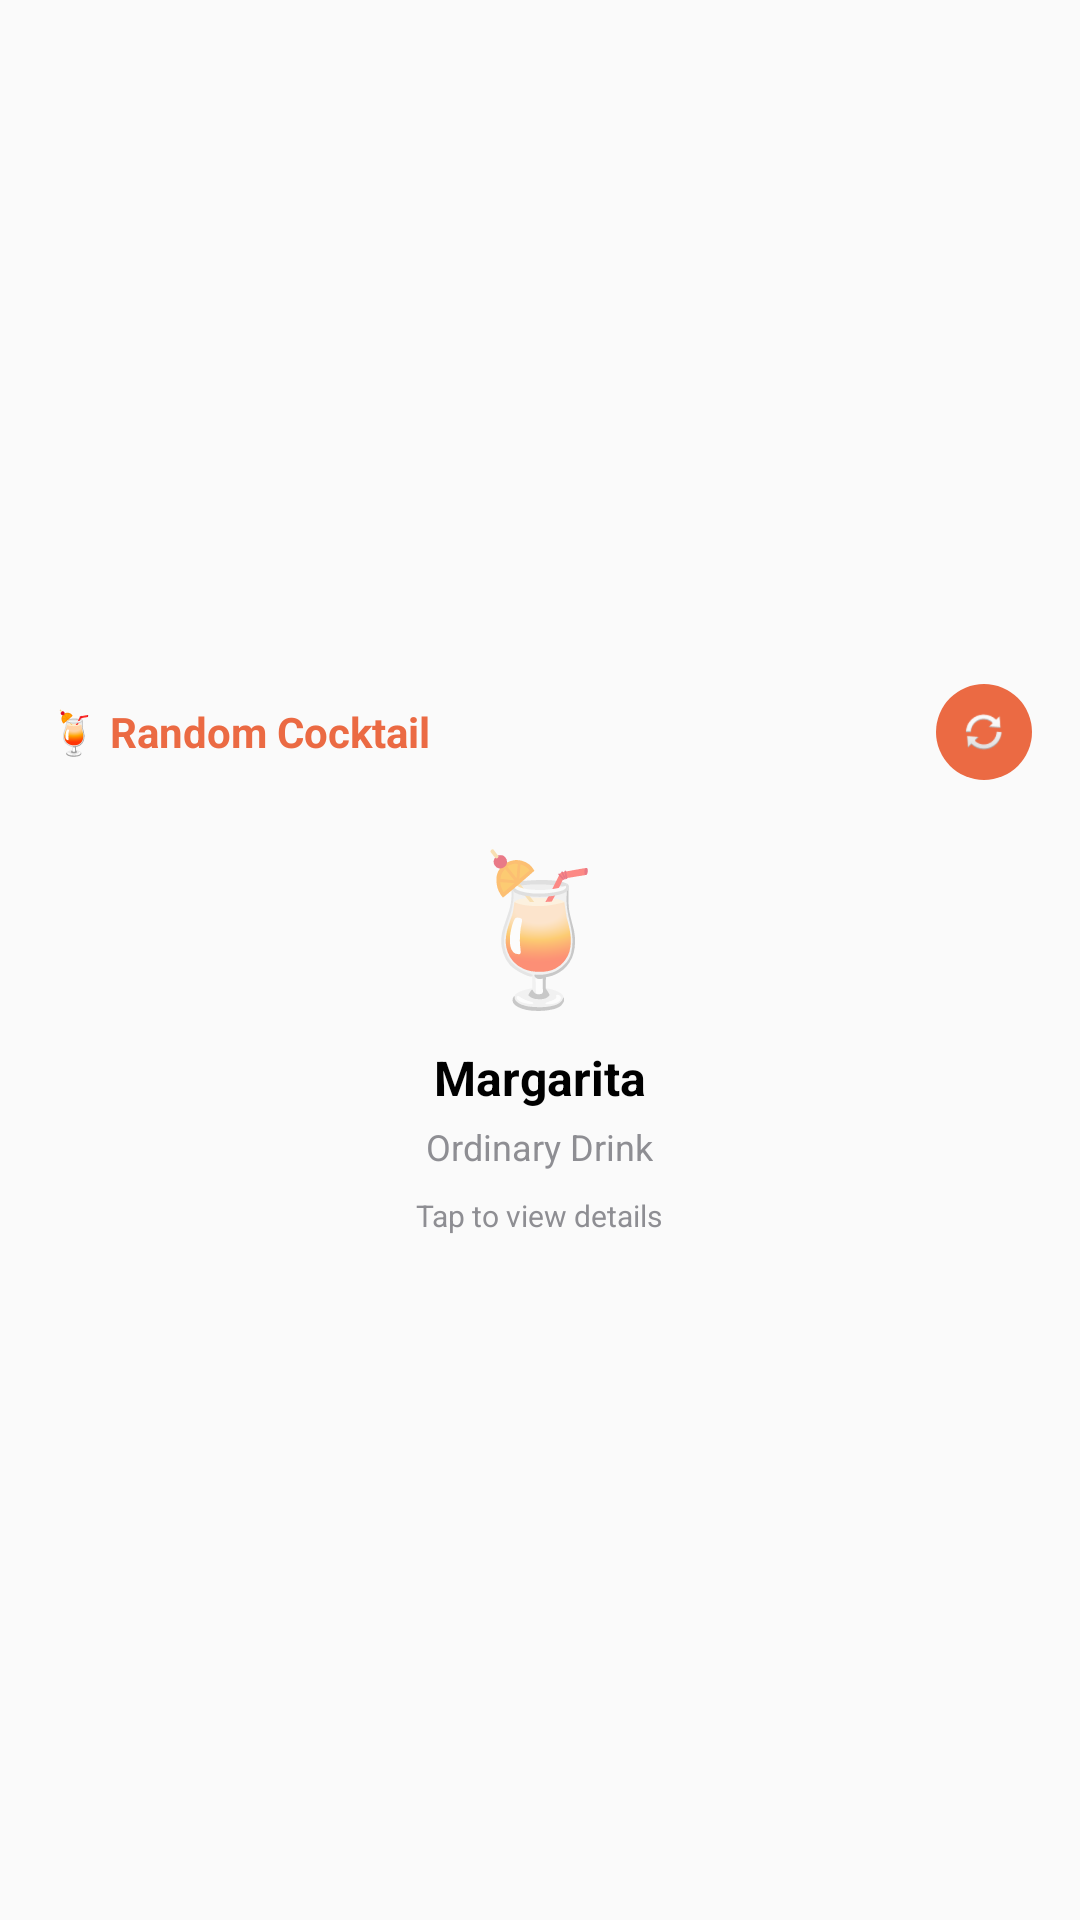

Where icons sit on this 1080w x 1920h app screen, as [x1, y1, x2, y2]:
Refresh: [936, 684, 1032, 780]
